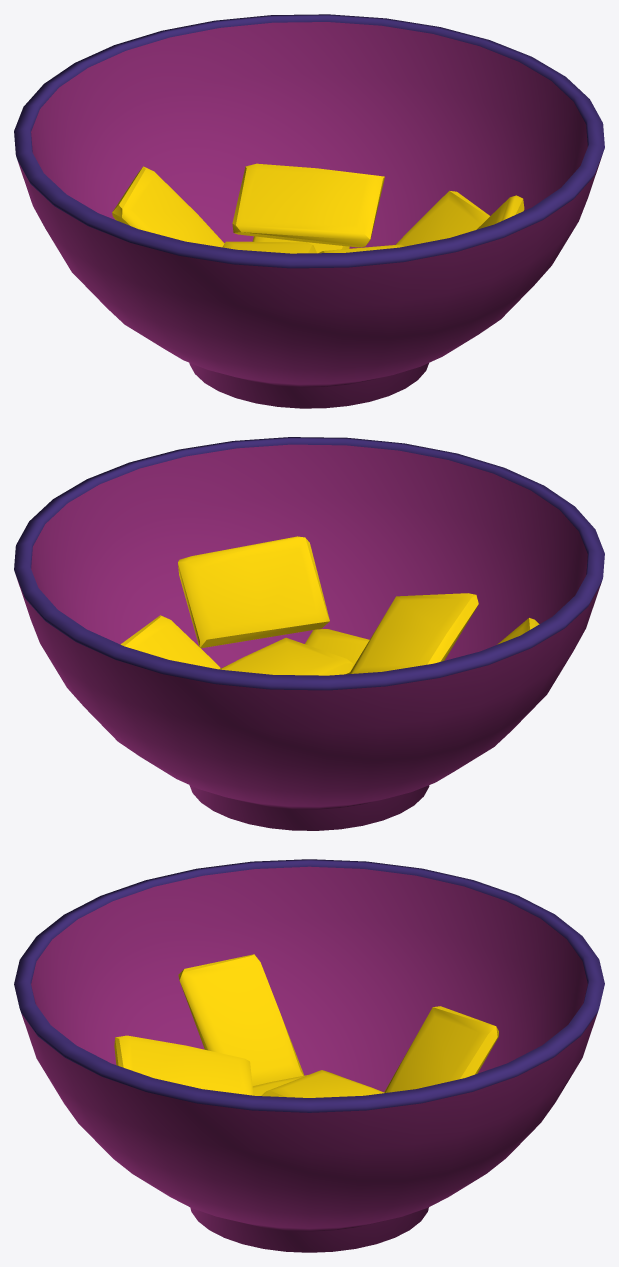
File: kaassoufle_cooked_modell.fbx
3 views of the same model, one above another, from view 1: azimuth 30°, elevation 25°; view 2: azimuth 150°, elevation 25°; view 3: azimuth 270°, elevation 25° (orthographic).
Parts seen in each view (by area): view 1: Mixing_Bowl_CKaassoufle, Kaassoufle_03, Kaassoufle_02, Kaassoufle_04; view 2: Mixing_Bowl_CKaassoufle, Kaassoufle_04, Kaassoufle_02, Kaassoufle_01; view 3: Mixing_Bowl_CKaassoufle, Kaassoufle_02, Kaassoufle_03, Kaassoufle_04.
Boxes of the visible parts, x1=… form: Mixing_Bowl_CKaassoufle: x1=14, y1=14, x2=604, y2=408; Kaassoufle_03: x1=112, y1=163, x2=384, y2=253; Kaassoufle_02: x1=252, y1=191, x2=489, y2=253; Kaassoufle_04: x1=318, y1=195, x2=524, y2=253; Mixing_Bowl_CKaassoufle: x1=14, y1=437, x2=604, y2=830; Kaassoufle_04: x1=178, y1=536, x2=478, y2=675; Kaassoufle_02: x1=120, y1=615, x2=539, y2=669; Kaassoufle_01: x1=305, y1=629, x2=369, y2=669; Mixing_Bowl_CKaassoufle: x1=14, y1=859, x2=604, y2=1252; Kaassoufle_02: x1=178, y1=954, x2=304, y2=1085; Kaassoufle_03: x1=261, y1=1006, x2=498, y2=1097; Kaassoufle_04: x1=114, y1=1035, x2=253, y2=1095.
Size of the model in its own units: 48.76 by 48.76 by 20.8.
